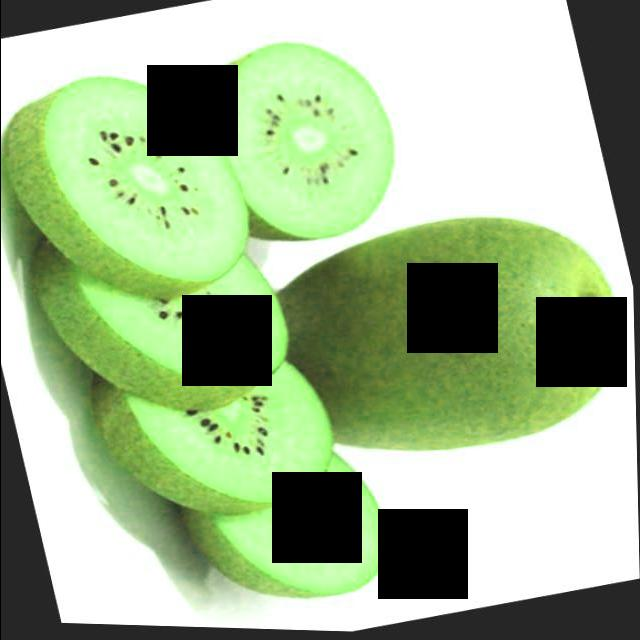kiwi: (260, 185, 639, 492)
